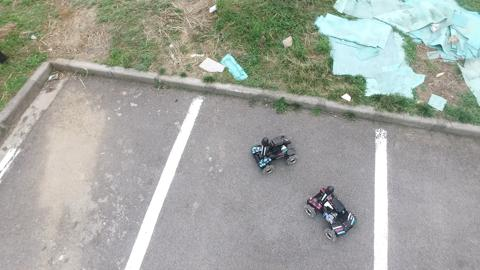chariot: (305, 177, 365, 248), (241, 126, 301, 178)
